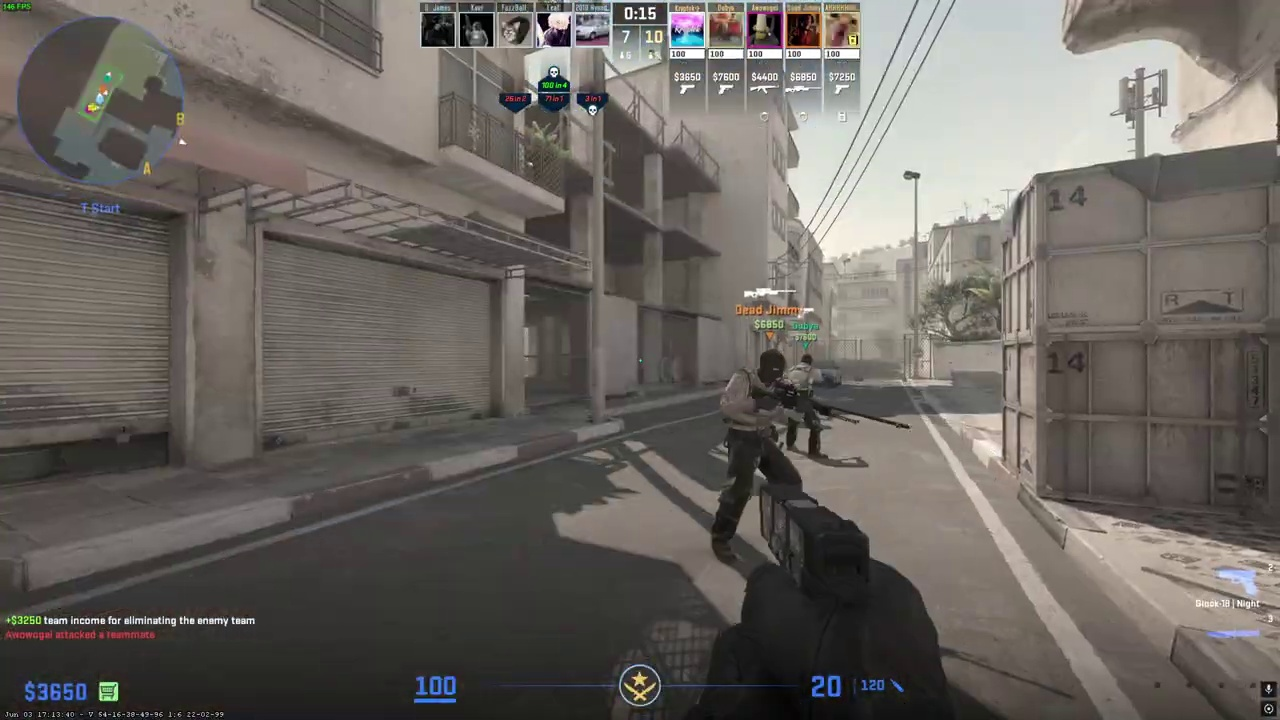Terrorist: (714, 348, 803, 562), (785, 355, 826, 462)
